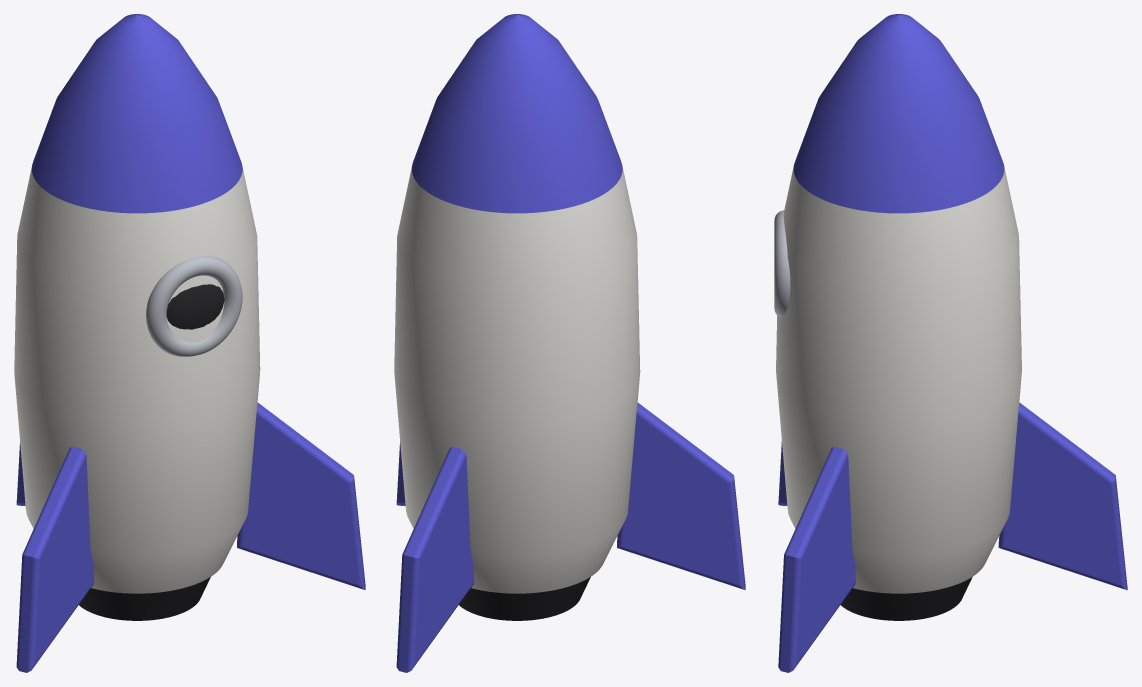
File: rocket.glb
3 renders of one model, left to right at view 1: azimuth 30°, elevation 25°; view 2: azimuth 150°, elevation 25°; view 3: azimuth 270°, elevation 25°, orthographic.
Visible parts, largest first — view 1: rocket; view 2: rocket; view 3: rocket.
Part boxes in pixels (x1=…): rocket: x1=14, y1=14, x2=365, y2=672; rocket: x1=394, y1=14, x2=745, y2=672; rocket: x1=774, y1=14, x2=1127, y2=672.
Bounding box in the file's own units: 1.37 × 2.18 × 1.2.
